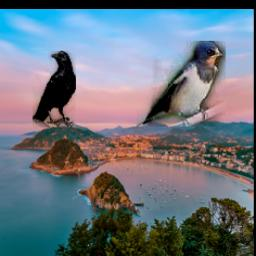Crow: (33, 52, 76, 128)
Swallow: (137, 41, 226, 127)
